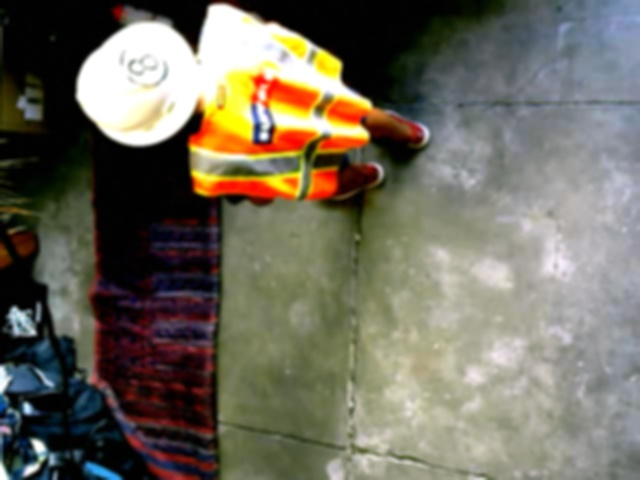eight: (119, 41, 167, 86)
